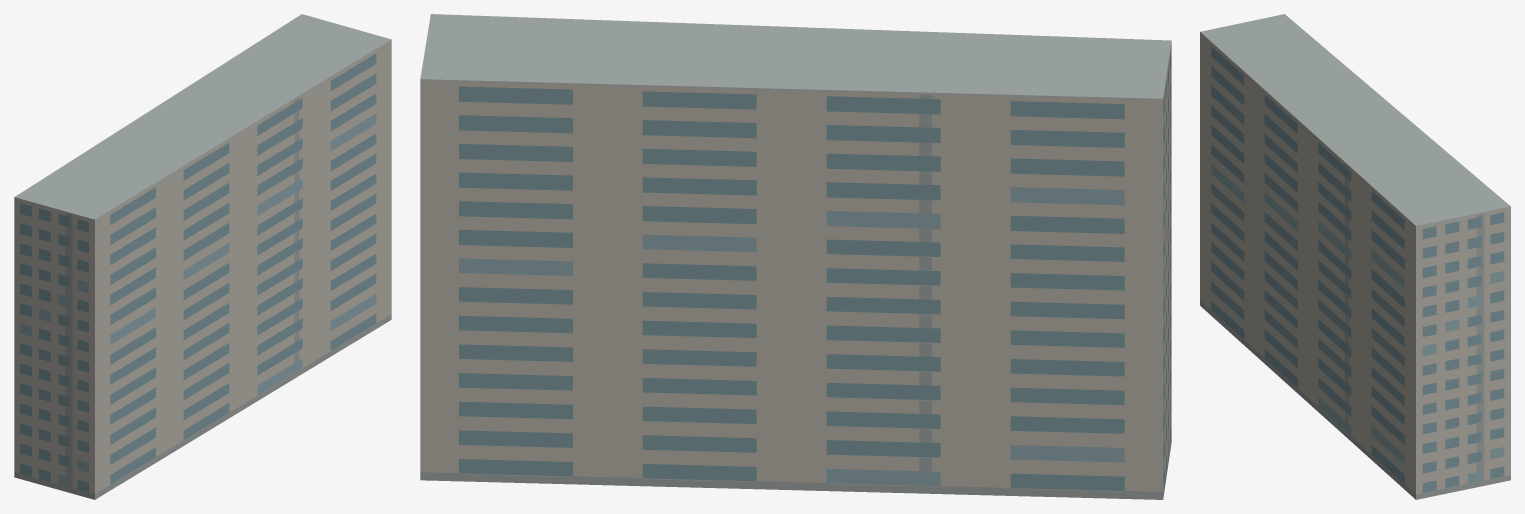
Rendered from residential-b6e260de-1d5f-4caa-af35-e3cc9e363a97.glb.
3 views of the same model, side by side, from view 1: azimuth 30°, elevation 25°; view 2: azimuth 150°, elevation 25°; view 3: azimuth 270°, elevation 25° (orthographic). The views are drawn at different scales.
Visible parts, largest first — view 1: residential-b6e260de-1d5f-4caa-af35-e3cc9e363a97.tmp; view 2: residential-b6e260de-1d5f-4caa-af35-e3cc9e363a97.tmp; view 3: residential-b6e260de-1d5f-4caa-af35-e3cc9e363a97.tmp.
Boxes of the visible parts, <box> form: residential-b6e260de-1d5f-4caa-af35-e3cc9e363a97.tmp: <box>14,14,391,499</box>; residential-b6e260de-1d5f-4caa-af35-e3cc9e363a97.tmp: <box>420,14,1171,499</box>; residential-b6e260de-1d5f-4caa-af35-e3cc9e363a97.tmp: <box>1200,14,1510,499</box>.
Size of the model in its own units: 70.87 by 42.7 by 43.9.
